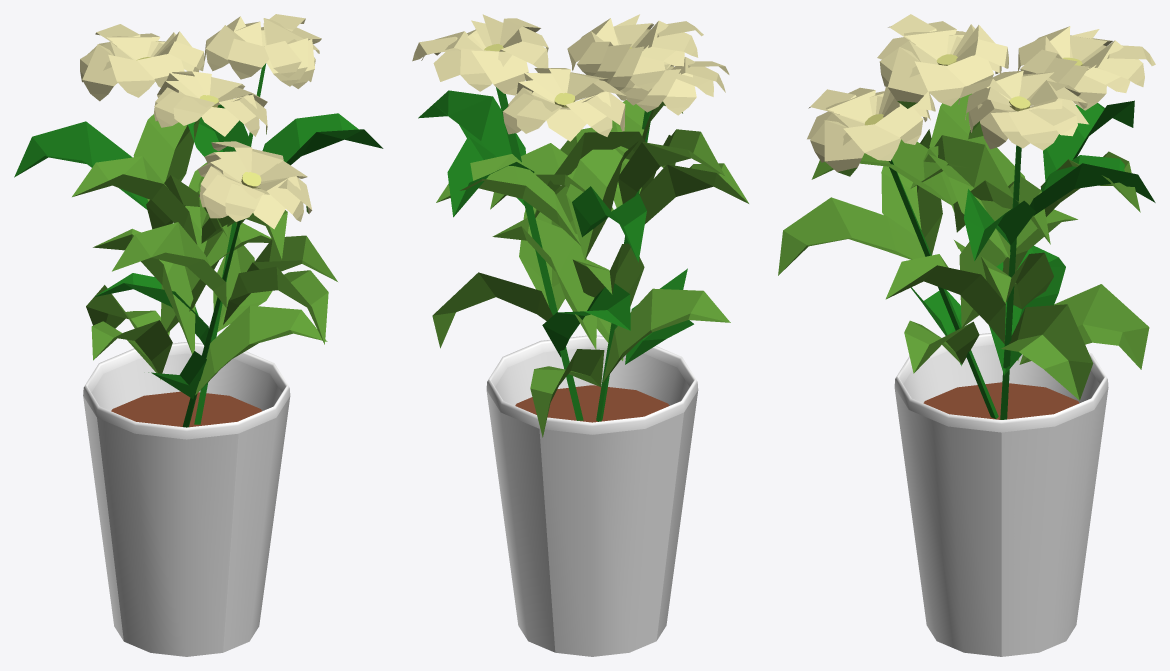
File: tanaman hias 2.fbx
The picture shows the model from 3 angles, left to right: view 1: azimuth 30°, elevation 25°; view 2: azimuth 150°, elevation 25°; view 3: azimuth 270°, elevation 25°; orthographic projection. The views are drawn at different scales.
Visible parts, largest first — view 1: jasmine.009, Cylinder.001; view 2: jasmine.009, Cylinder.001; view 3: jasmine.009, Cylinder.001.
Part boxes in pixels (left/top/right/bottom): jasmine.009: left=14, top=14, right=383, bottom=427; Cylinder.001: left=83, top=342, right=290, bottom=656; jasmine.009: left=412, top=14, right=748, bottom=437; Cylinder.001: left=486, top=335, right=698, bottom=656; jasmine.009: left=778, top=14, right=1155, bottom=419; Cylinder.001: left=894, top=333, right=1108, bottom=656.
Size of the model in its own units: 37.59 by 66.55 by 38.86.
